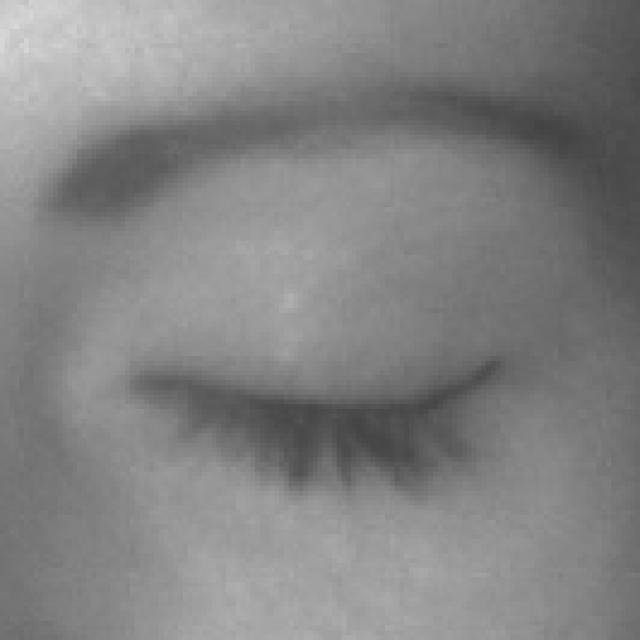Eyeclosed: (130, 207, 510, 640)
